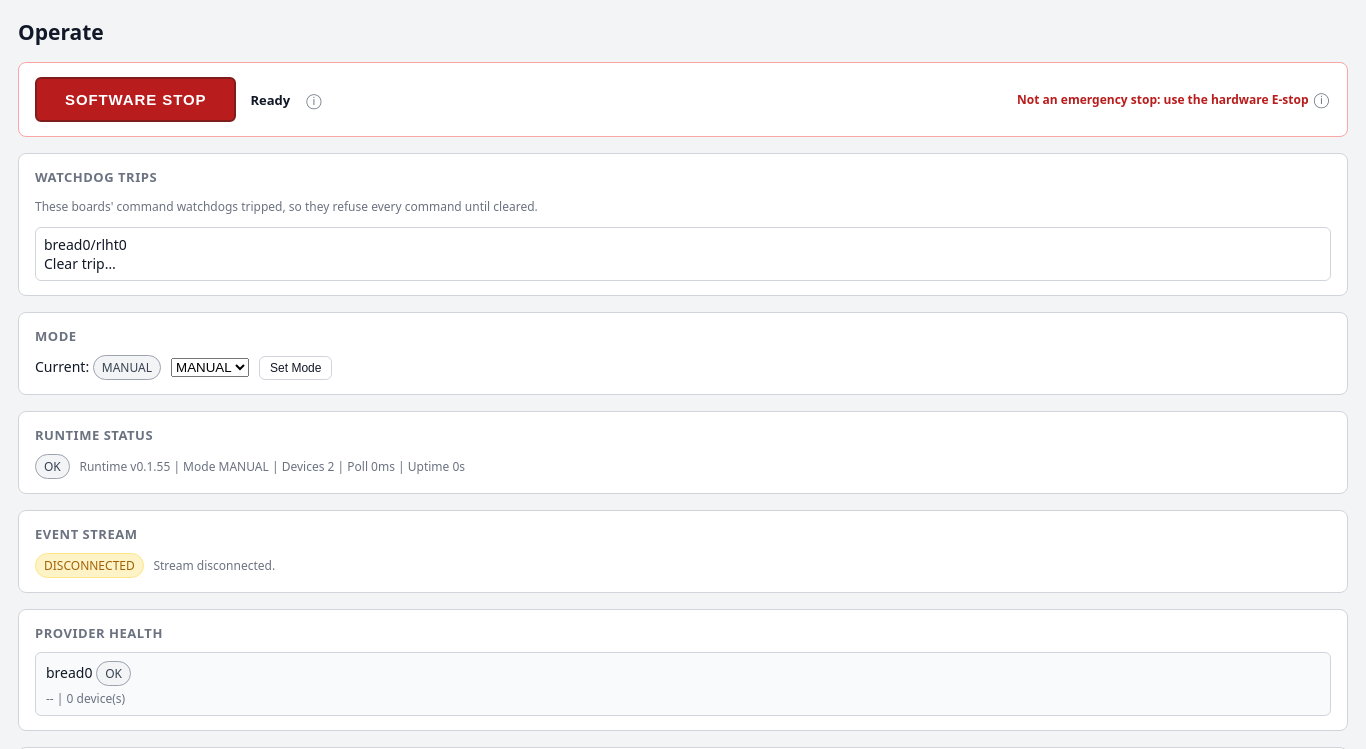
Operate.svelte — a guided clear for watchdog-tripped boards (wb#572) › offers no brake step on a board without set_brake (RLHT)
Click the button with aria-label "Clear the watchdog trip on bread0/rlht0…" at x=80, y=264, box [44,254,1322,273]
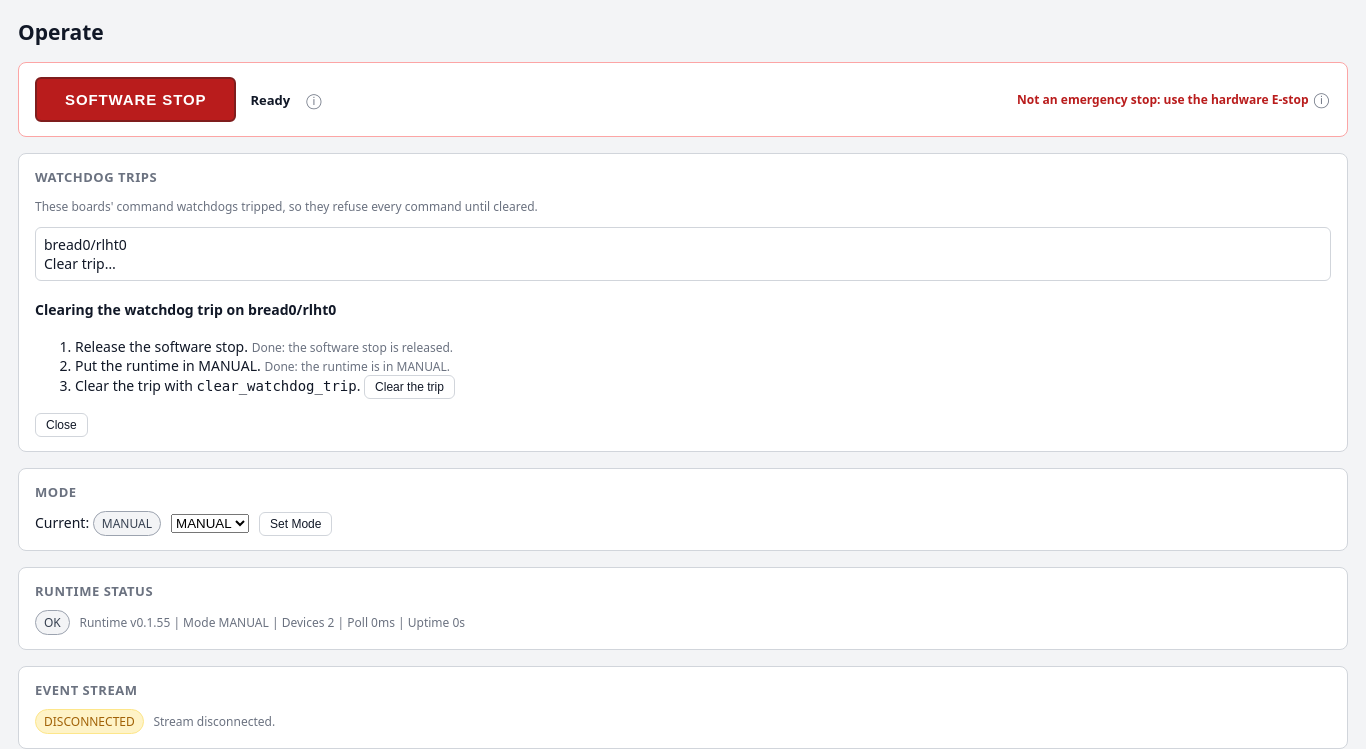
Check: the button "Clear the trip" is enabled
Click the button "Clear the trip" at x=409, y=387, box [364,375,455,399]
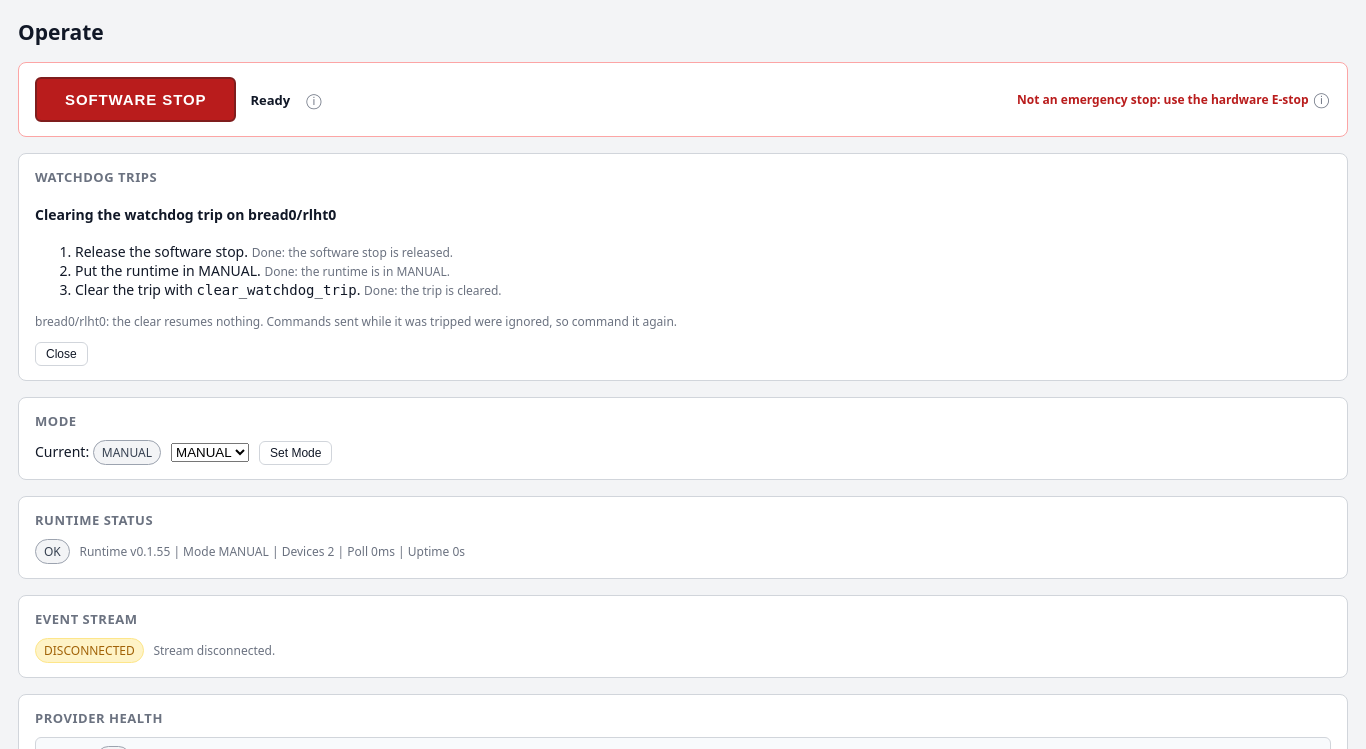
Check: the list item with test id "trip-step-3" shows "Done", box [364,282,502,299]
